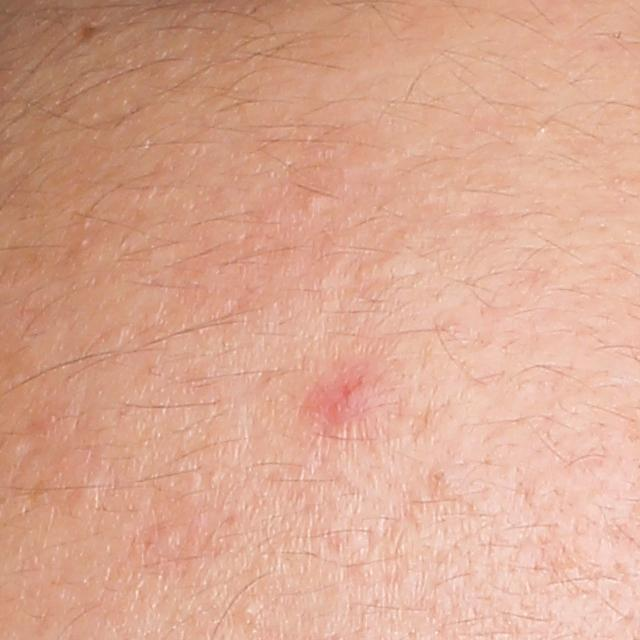comedo: (305, 190, 332, 211), (238, 605, 257, 625)
